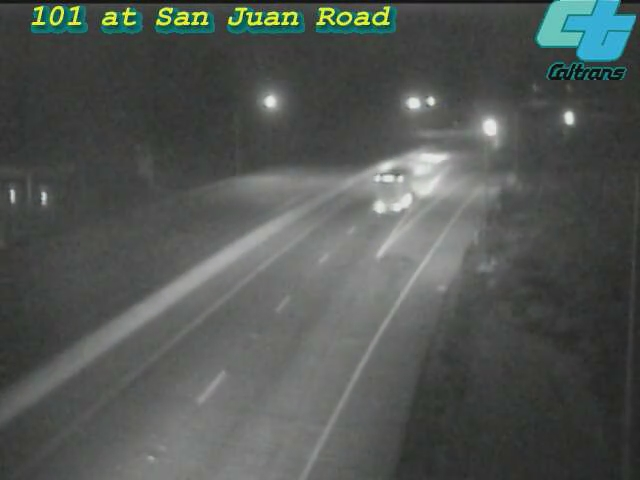vehicle: (366, 127, 446, 207), (357, 152, 437, 232), (462, 103, 512, 153), (543, 93, 593, 143), (405, 133, 455, 183)
